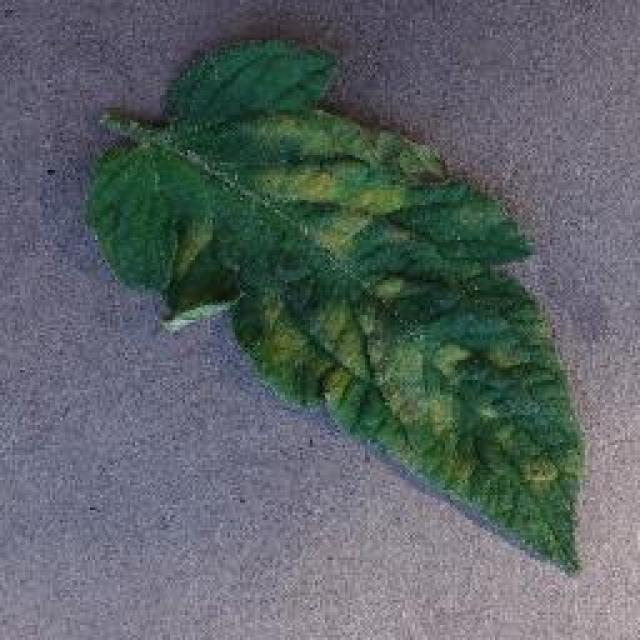leaf mold: (81, 39, 587, 570)
